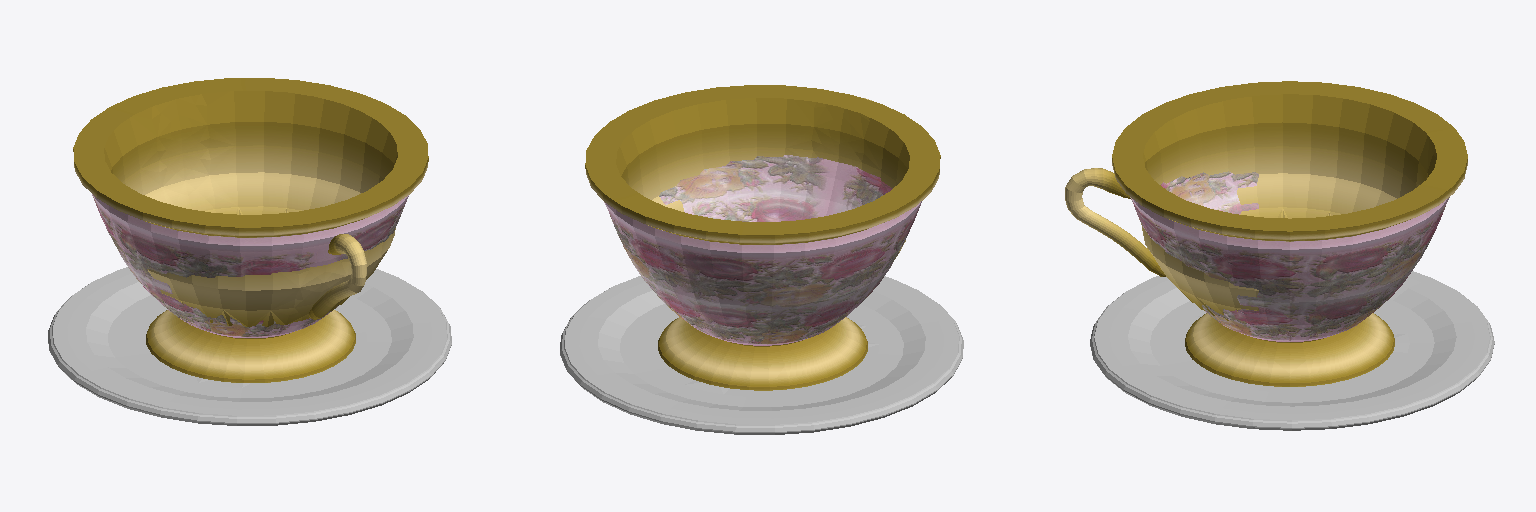
3 renders of one model, left to right at view 1: azimuth 30°, elevation 25°; view 2: azimuth 150°, elevation 25°; view 3: azimuth 270°, elevation 25°, orthographic.
Visible parts, largest first — view 1: cup, saucer; view 2: cup, saucer; view 3: cup, saucer.
Boxes of the visible parts, <box> form: cup: <box>73,78,428,382</box>; saucer: <box>48,267,451,425</box>; cup: <box>585,85,940,390</box>; saucer: <box>560,276,963,434</box>; cup: <box>1065,81,1467,386</box>; saucer: <box>1090,271,1494,430</box>.
Size of the model in its own units: 8.07 by 4.38 by 8.56.
Materials: 2 (1 with a texture image).